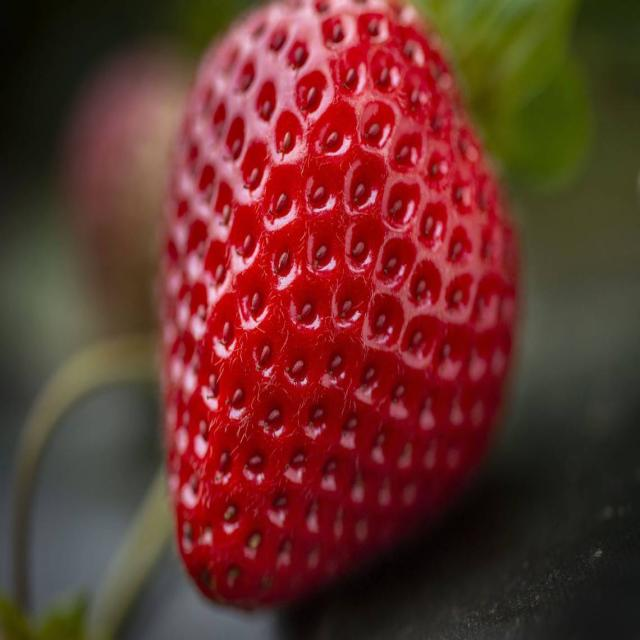strawberry: (114, 0, 541, 640)
